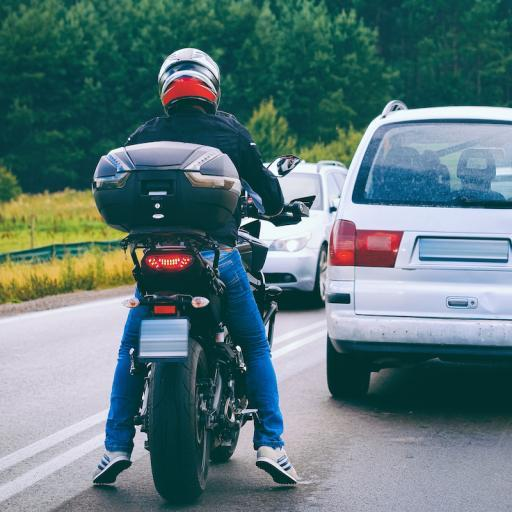helmet: (100, 41, 276, 474)
